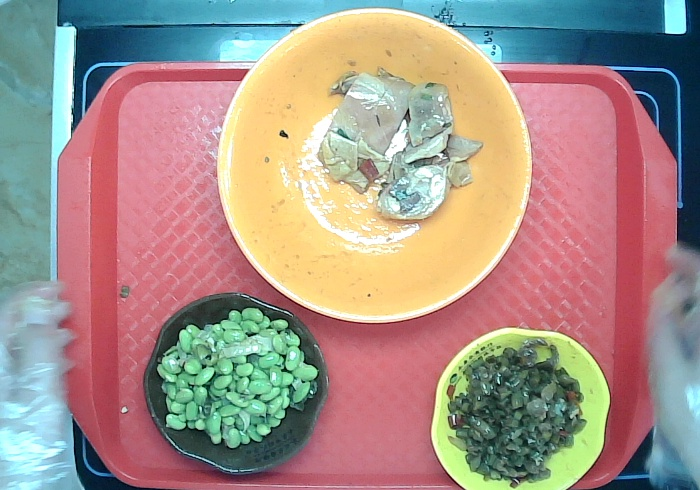YKMZ-Huang_Se_Ao_Bian_Wan: (426, 321, 611, 490)
YKMZ-Ju_Se_Tang_Wan: (210, 5, 535, 331)
YKMZ-Ka_Fei_Ao_Bian_Wan: (138, 286, 336, 480)
